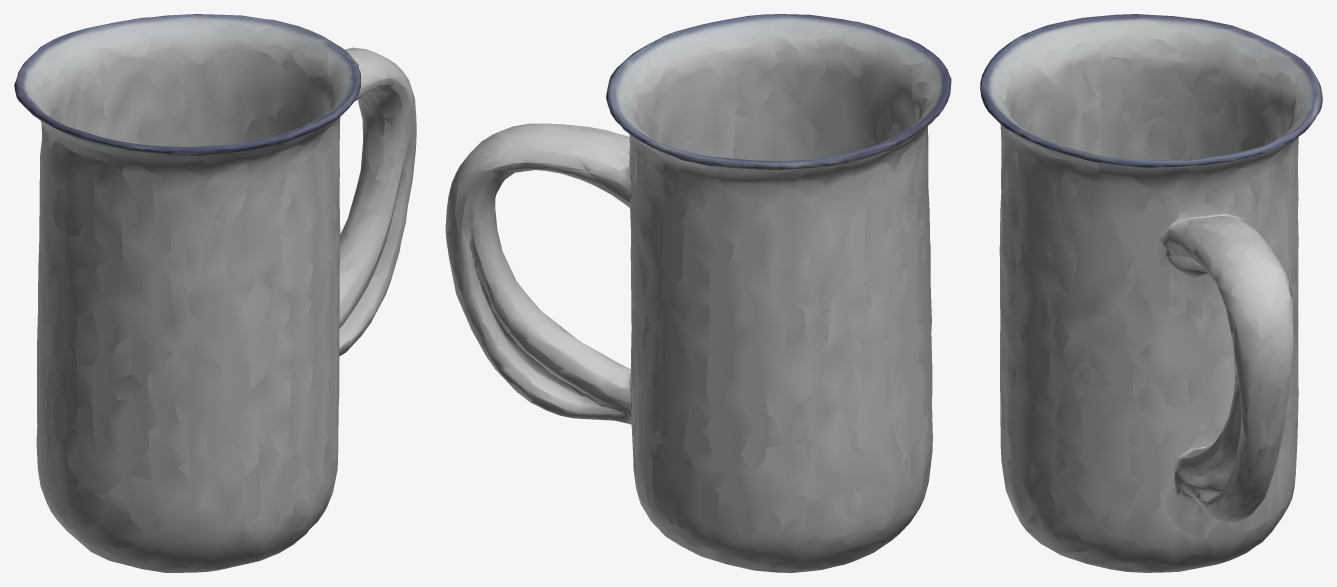
File: 0010_mask_011_small_white_cup.glb
3 renders of one model, left to right at view 1: azimuth 30°, elevation 25°; view 2: azimuth 150°, elevation 25°; view 3: azimuth 270°, elevation 25°, orthographic.
Parts seen in each view (by area): view 1: mask_011_object; view 2: mask_011_object; view 3: mask_011_object.
Part boxes in pixels (x1,y1,x2,y2): mask_011_object: (14, 14, 416, 572); mask_011_object: (445, 14, 951, 572); mask_011_object: (980, 14, 1322, 572).
Size of the model in its own units: 0.145 by 0.146 by 0.1012.
